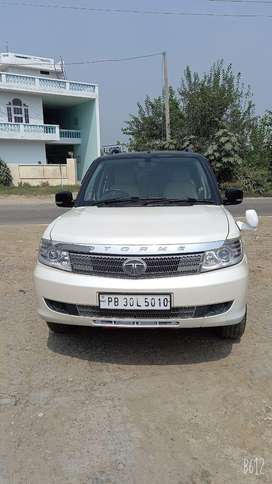PB30L5010: (99, 293, 171, 310)
